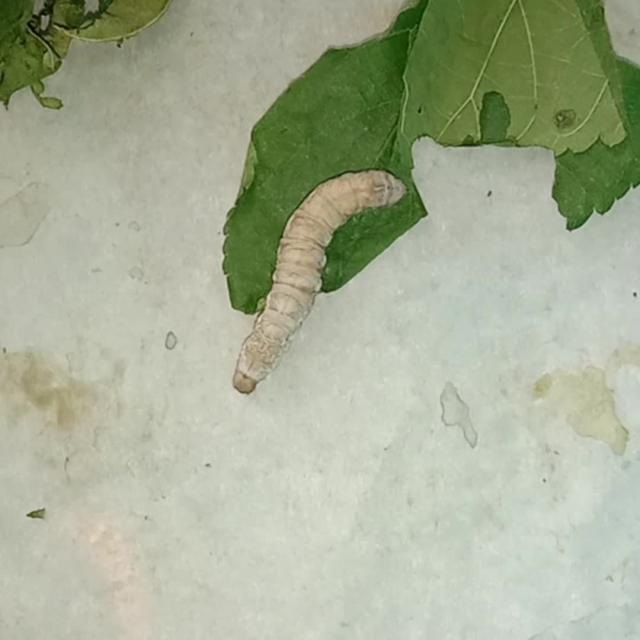Grasserie: (214, 141, 419, 428)
